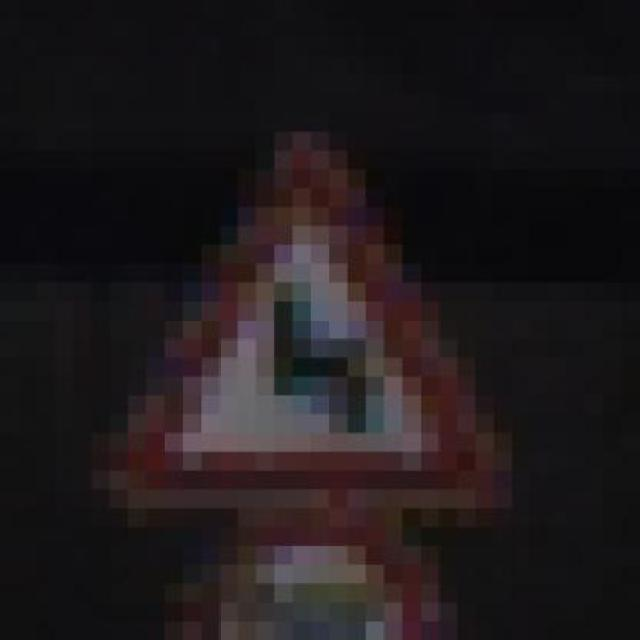Left Zig Zag Traffic: (109, 94, 494, 528)
